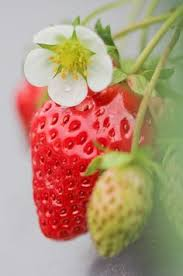ripe: (25, 85, 144, 239)
unripe: (86, 156, 151, 260)
